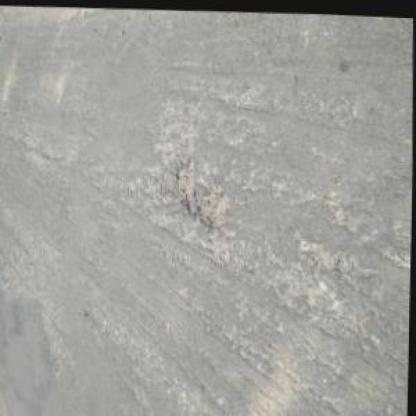pothole: (171, 154, 233, 229)
